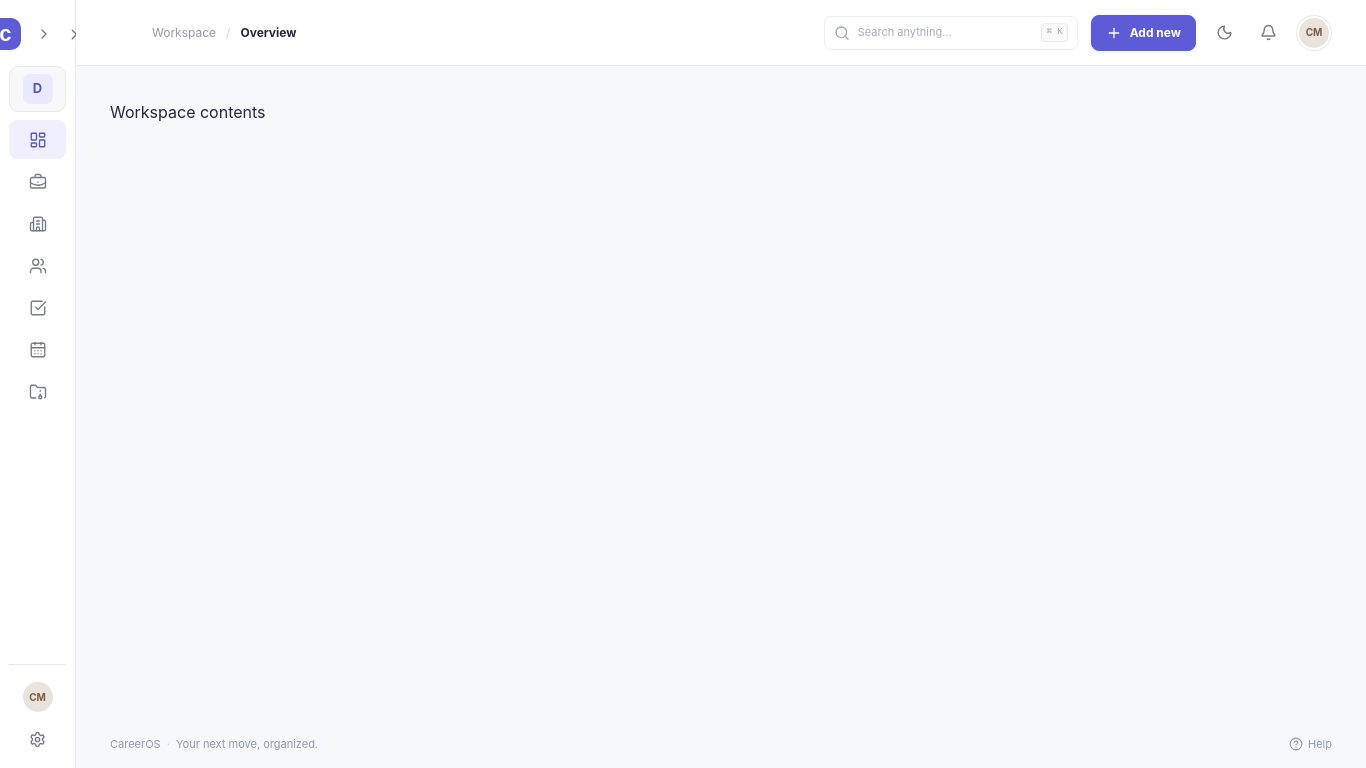
AppShell authentication menu › closes menus when clicking outside and retains a persisted sidebar toggle
The width and height of the screenshot is (1366, 768).
Earlier steps of the test are not shown.
Click the button named "Notifications" at (1268, 32), box top-left (1253, 17), bottom-right (1284, 48)
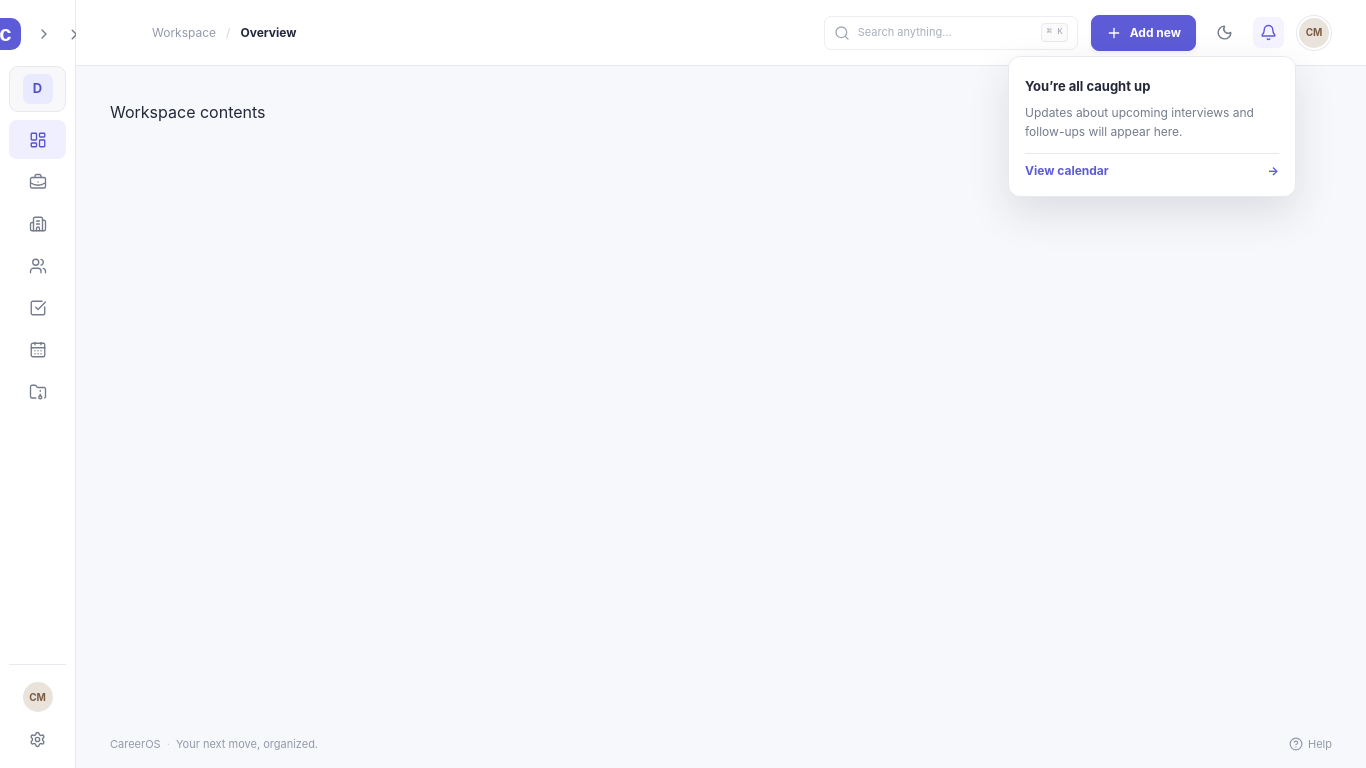
Expected: the dialog named "Notifications" is shown, top-left (1008, 56), bottom-right (1296, 197)
Click the button named "Notifications" at (1268, 32), box top-left (1253, 17), bottom-right (1284, 48)
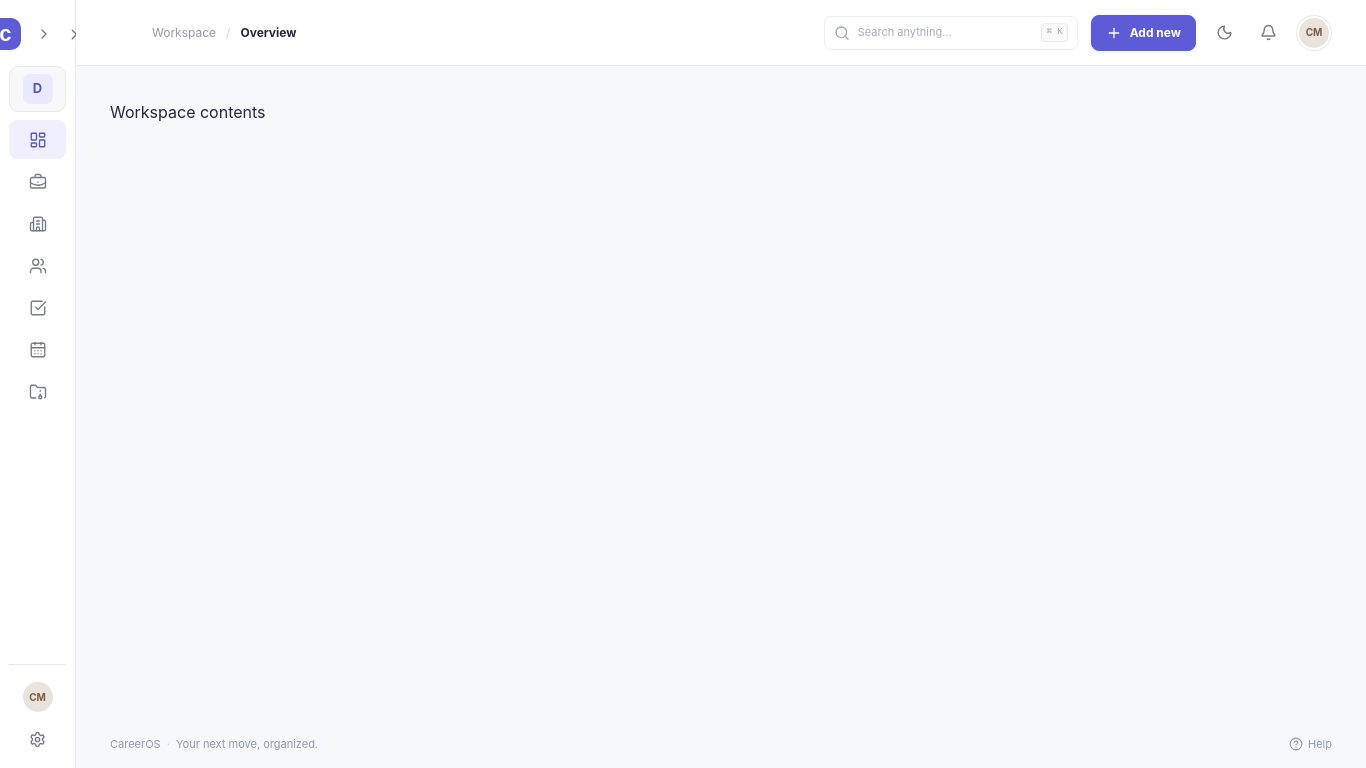
Click the button named "Notifications" at (1268, 32), box top-left (1253, 17), bottom-right (1284, 48)
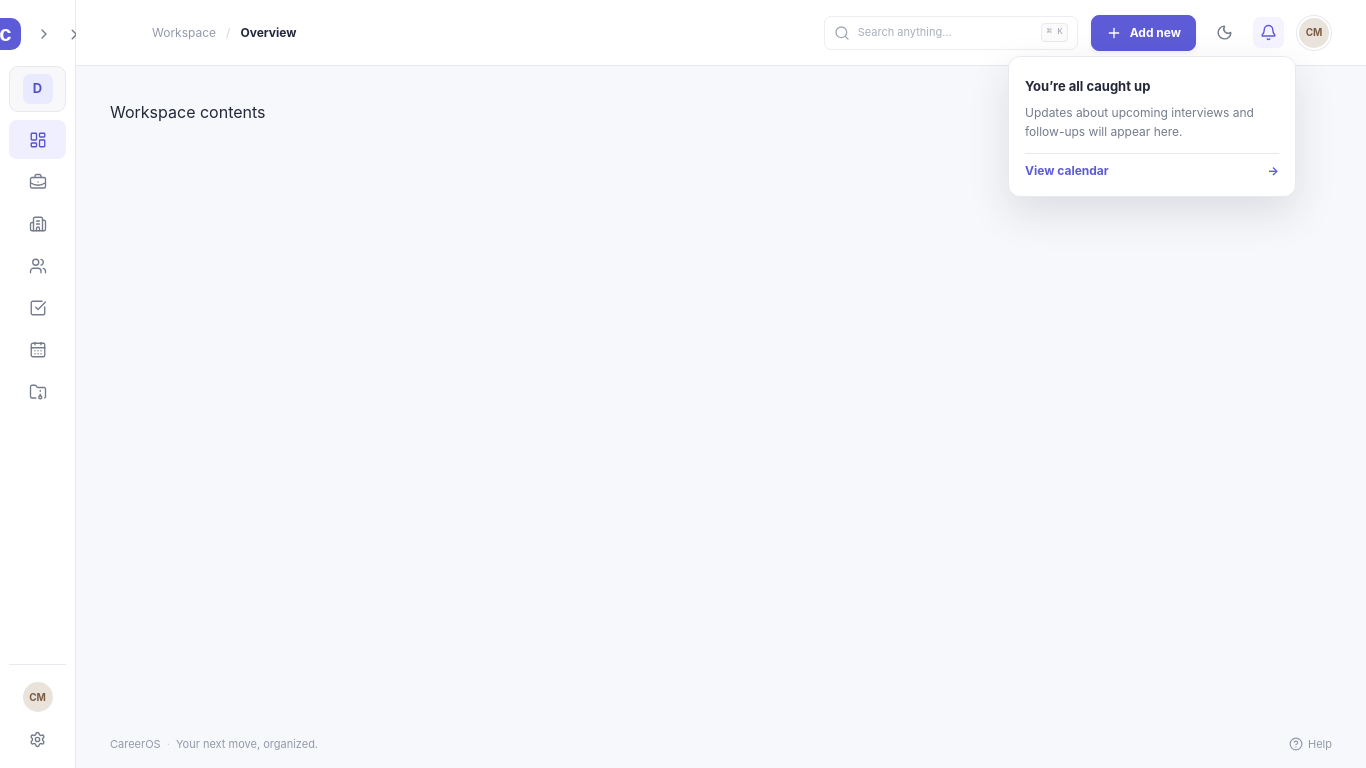
Click the button with aria-label "Open sidebar profile menu" at (38, 697), box top-left (9, 675), bottom-right (66, 719)
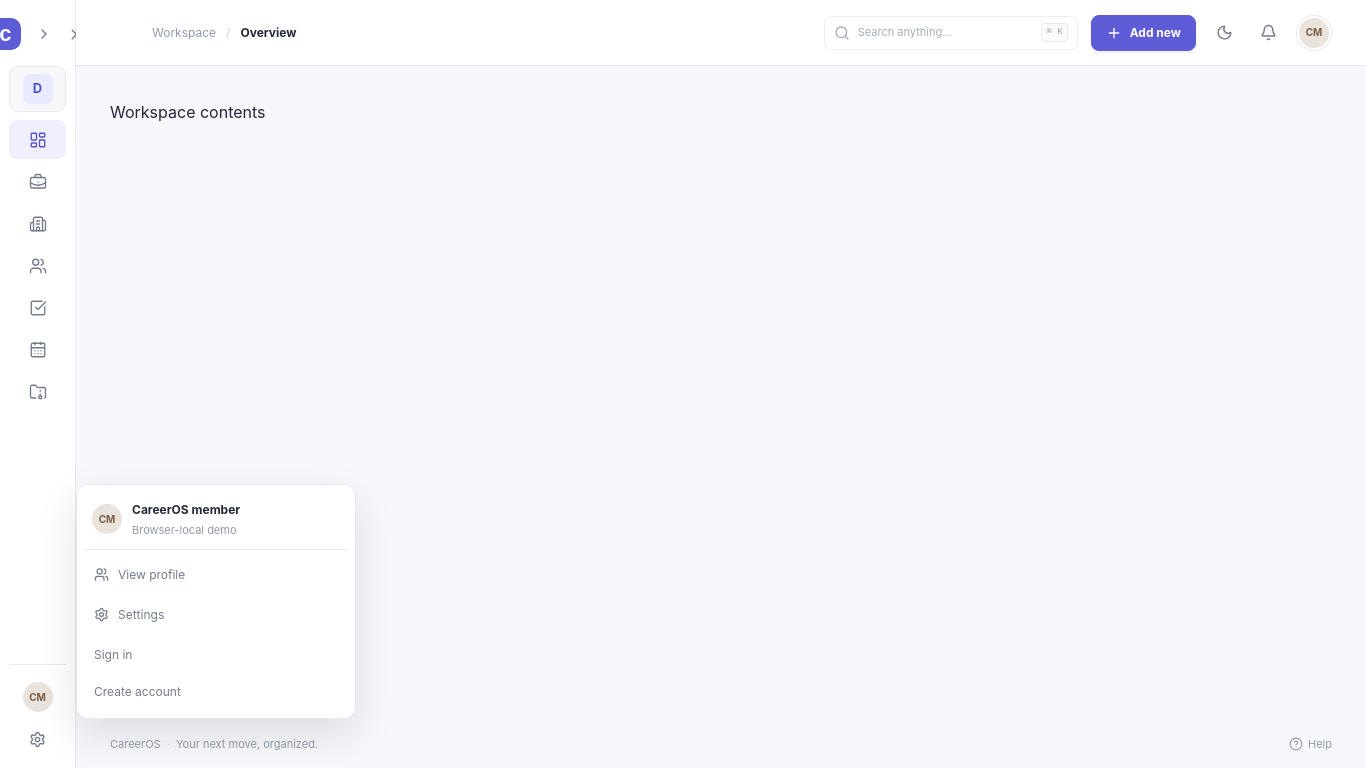
Expected: the number of menus is 1, top-left (76, 484), bottom-right (356, 719)
Press the mouse on the element that starts with "CareerOS member" at (683, 384), box top-left (0, 0), bottom-right (1365, 767)
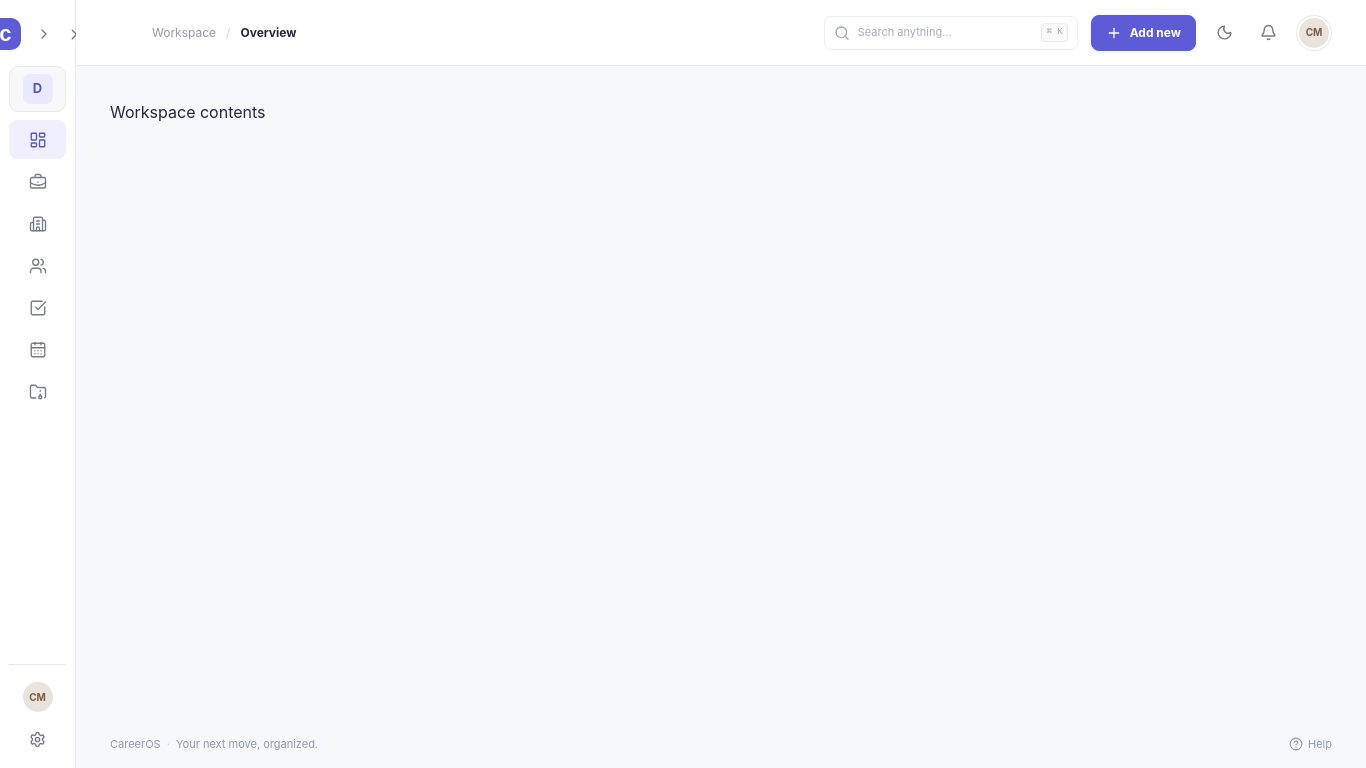
Expected: the menu is gone
